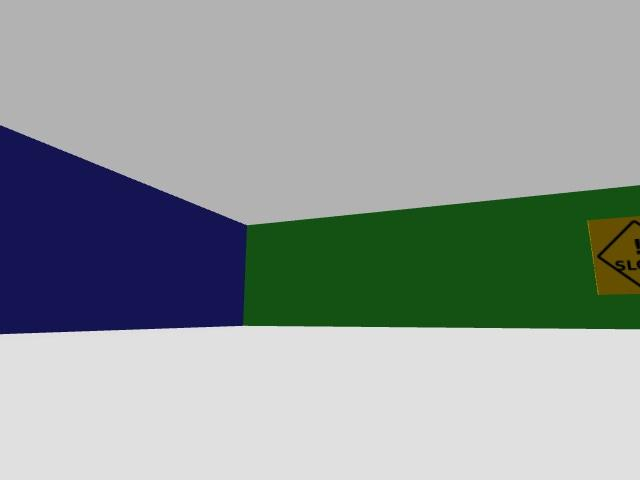slow: (588, 216, 639, 294)
